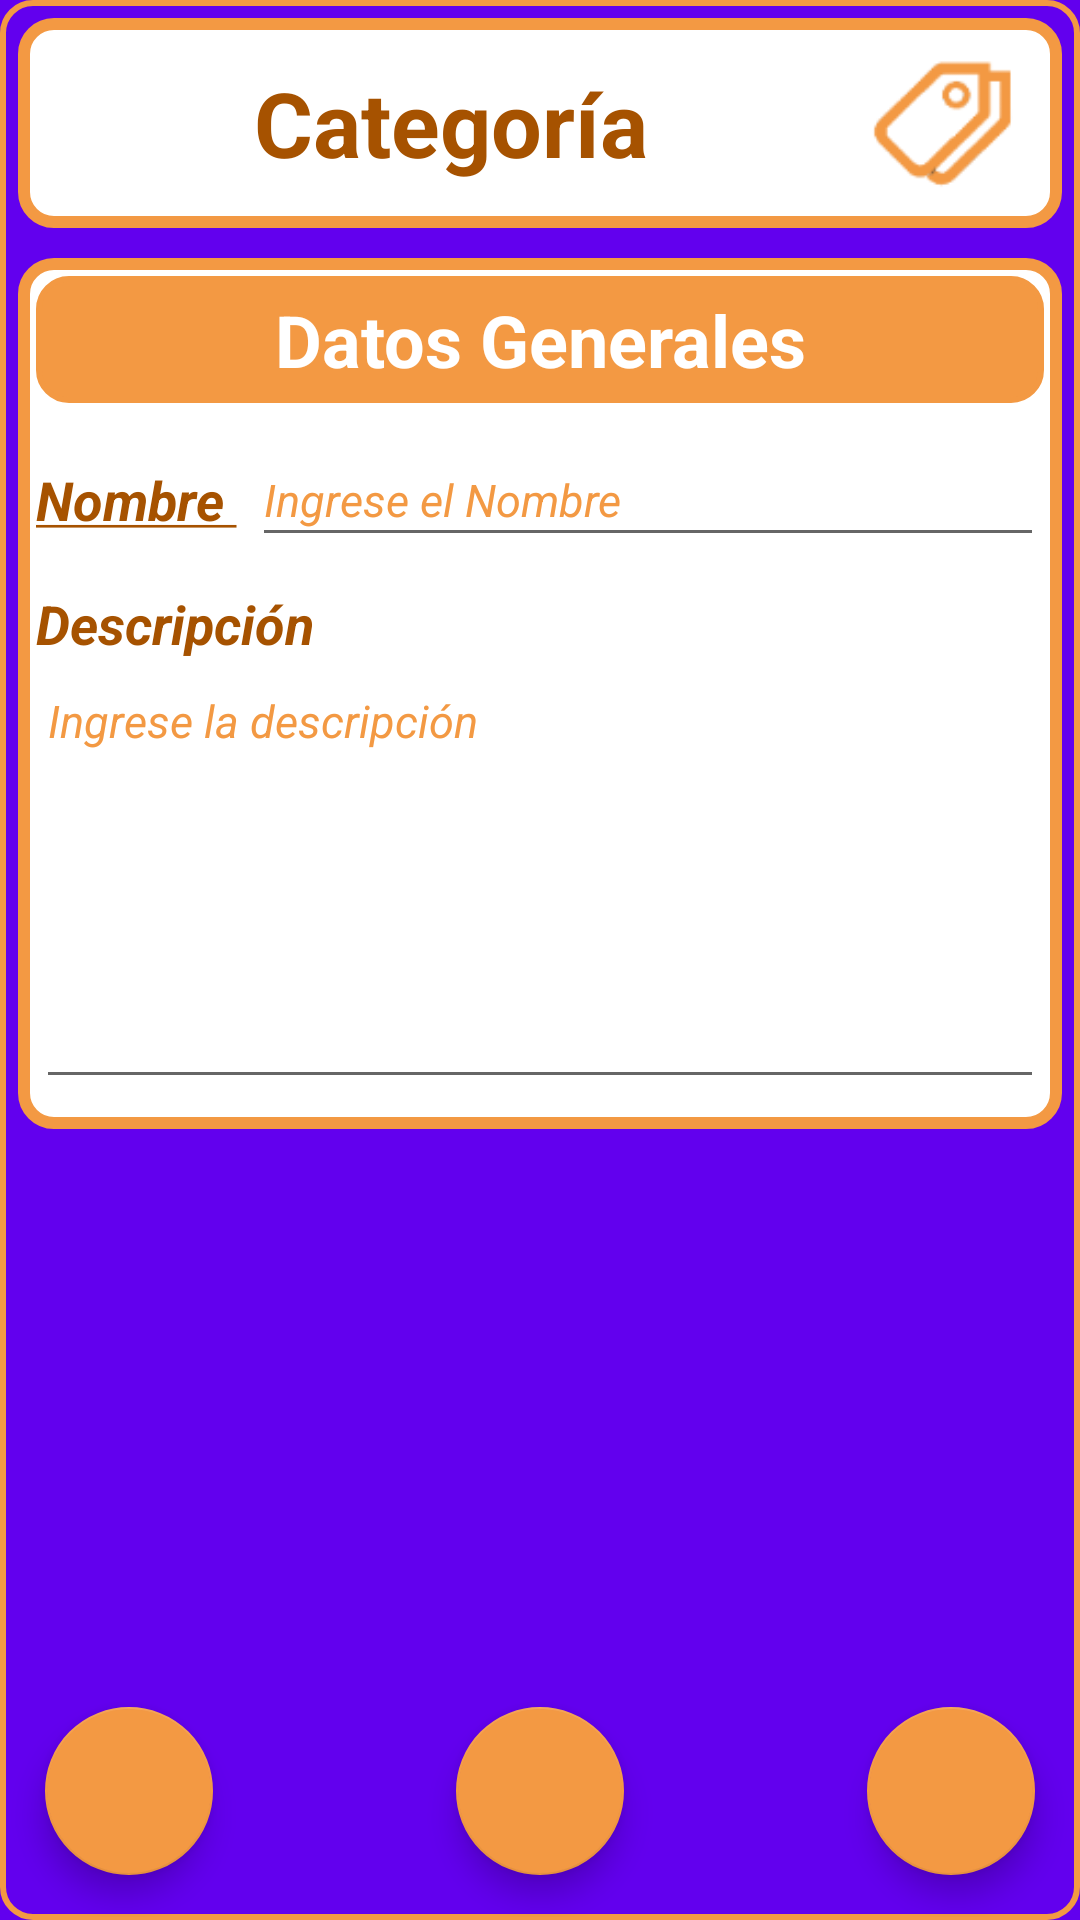

Where icons sit on this 1080w x 1920h app screen, as region(x1, y1, x2, y2):
categoria sf: region(874, 61, 1011, 186)
